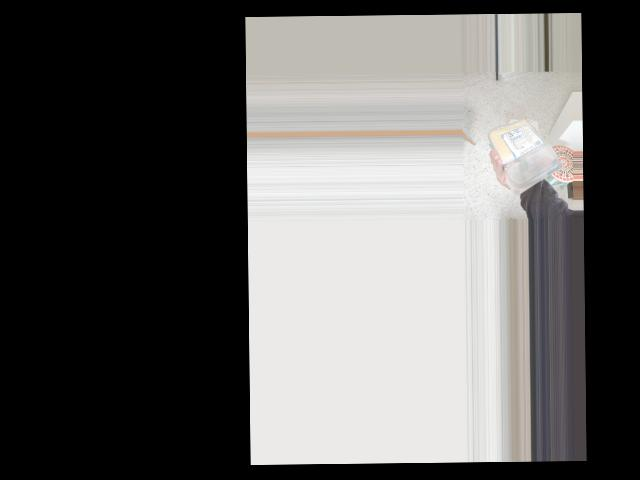cheese: (496, 113, 562, 184)
